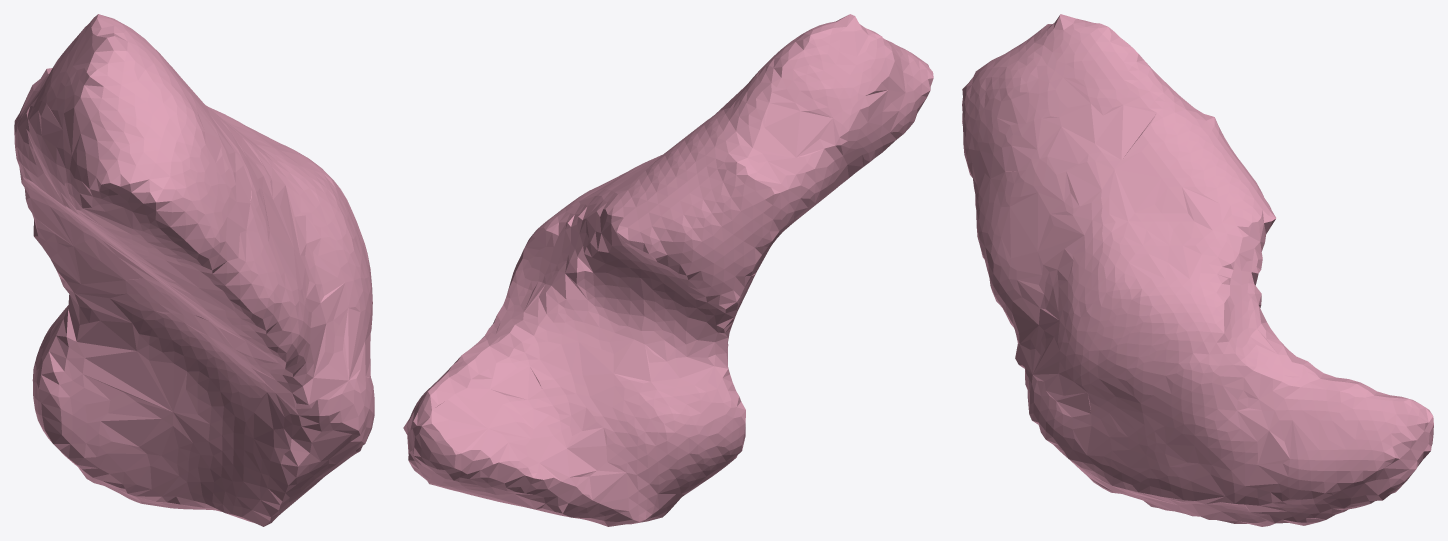
Rendered from Model_279_RH__Lateral_pulvinar_(LPul).obj.
3 views of the same model, side by side, from view 1: azimuth 30°, elevation 25°; view 2: azimuth 150°, elevation 25°; view 3: azimuth 270°, elevation 25° (orthographic). The views are drawn at different scales.
Size of the model in its own units: 2.6 by 3.52 by 3.56.
